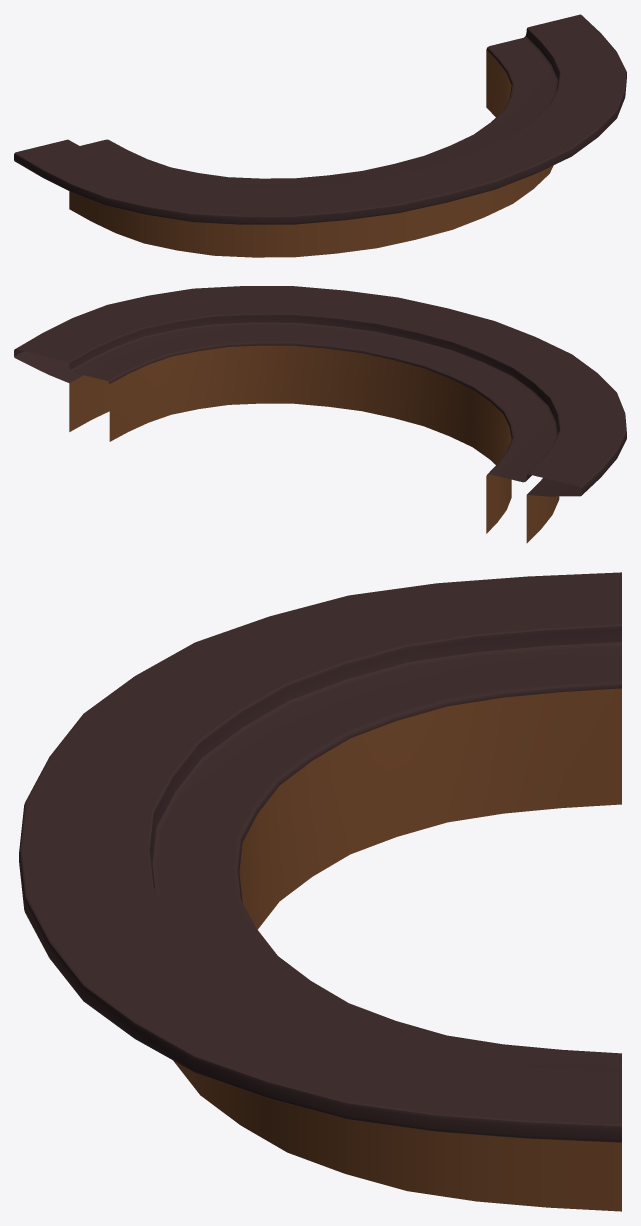
Rendered from bar.fbx.
The picture shows the model from 3 angles, top to bottom: view 1: azimuth 30°, elevation 25°; view 2: azimuth 150°, elevation 25°; view 3: azimuth 270°, elevation 25°; orthographic projection. The views are drawn at different scales.
Visible parts, largest first — view 1: bar; view 2: bar; view 3: bar.
Boxes of the visible parts, x1,y1,x2,y2 form: bar: (14,14,626,257); bar: (14,286,626,543); bar: (19,572,621,1211).
Bounding box in the file's own units: 13.5 × 1.59 × 6.2.
